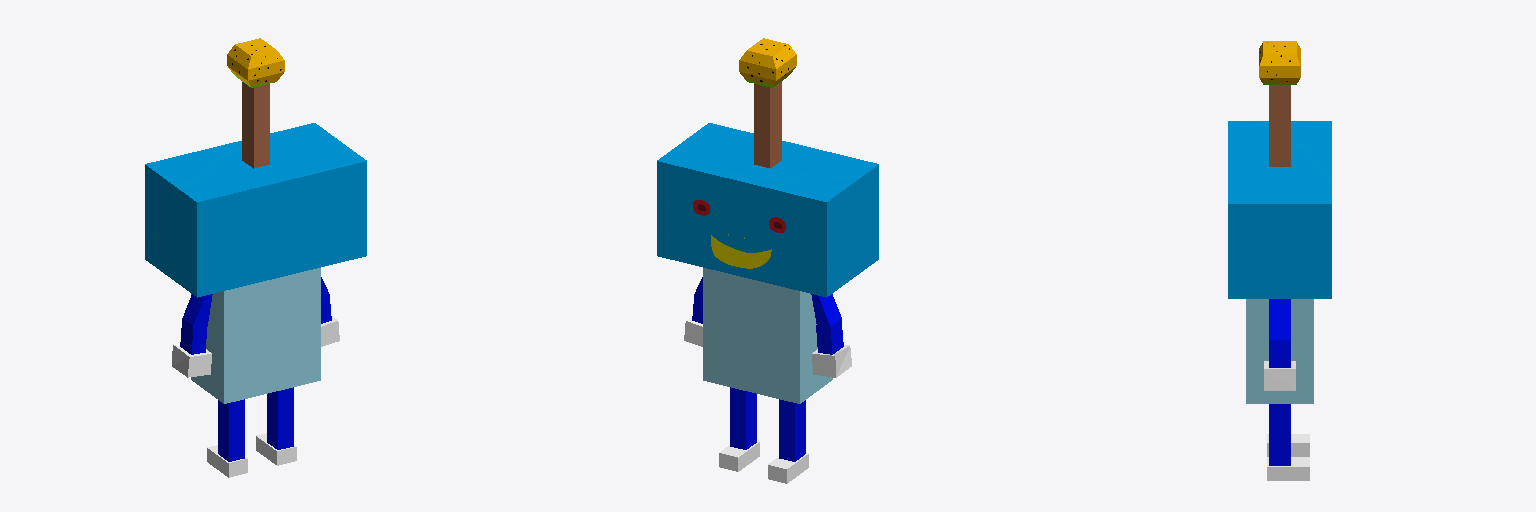
The picture shows the model from 3 angles: view 1: azimuth 30°, elevation 25°; view 2: azimuth 150°, elevation 25°; view 3: azimuth 270°, elevation 25°; orthographic projection.
Visible parts, largest first — view 1: Plane; view 2: Plane; view 3: Plane.
Boxes of the visible parts, x1=… form: Plane: x1=145, y1=38, x2=366, y2=477; Plane: x1=657, y1=38, x2=878, y2=483; Plane: x1=1228, y1=41, x2=1331, y2=480.
Bounding box in the file's own units: 2.1 × 4.92 × 1.12.
Materials: 1 (1 with a texture image).